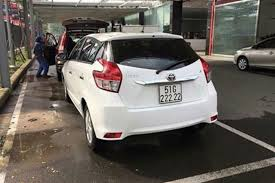Car number plates: (159, 83, 182, 103)
